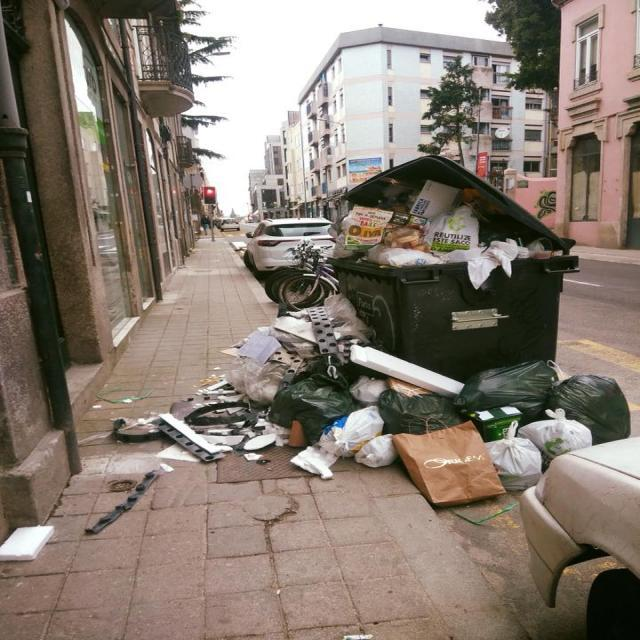garbage: (172, 151, 640, 508)
